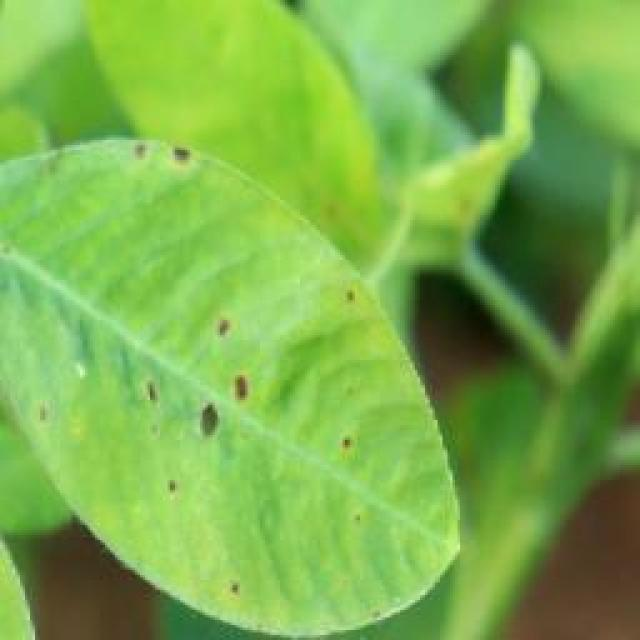Sigatoka: (128, 307, 254, 447), (119, 107, 207, 179), (320, 262, 378, 338), (301, 405, 352, 455), (30, 385, 77, 436), (207, 561, 267, 598), (344, 480, 390, 525), (144, 462, 190, 502)
